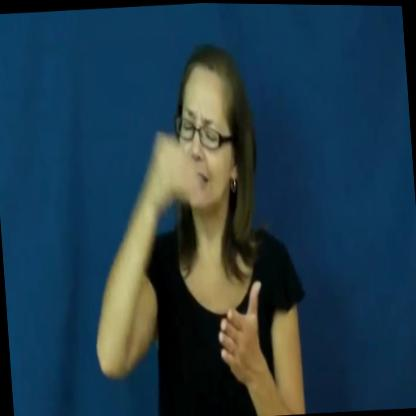Expensive: (136, 120, 272, 396)
